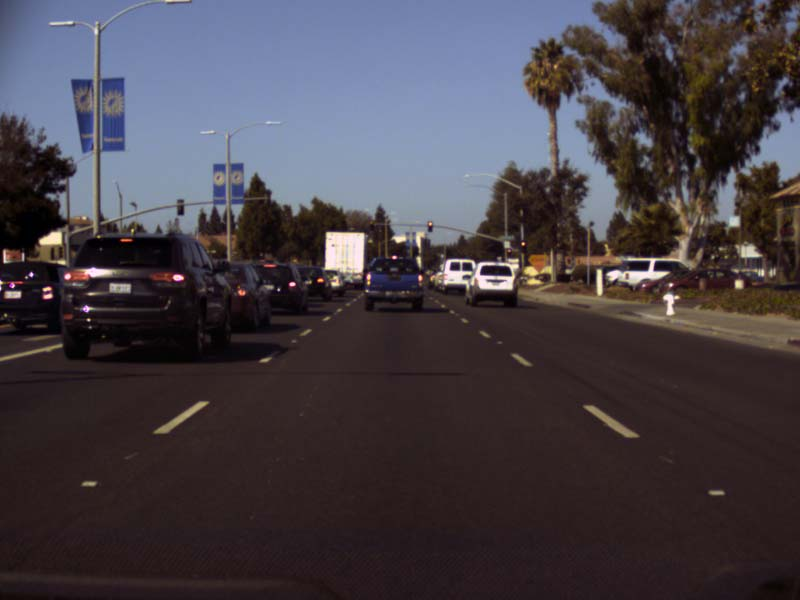Red: (520, 241, 526, 252), (427, 221, 432, 232), (506, 248, 511, 257), (369, 220, 373, 230)
